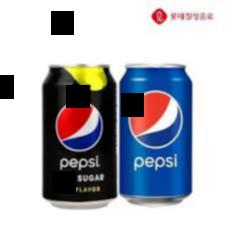pepsi_zero: (38, 64, 119, 210)
